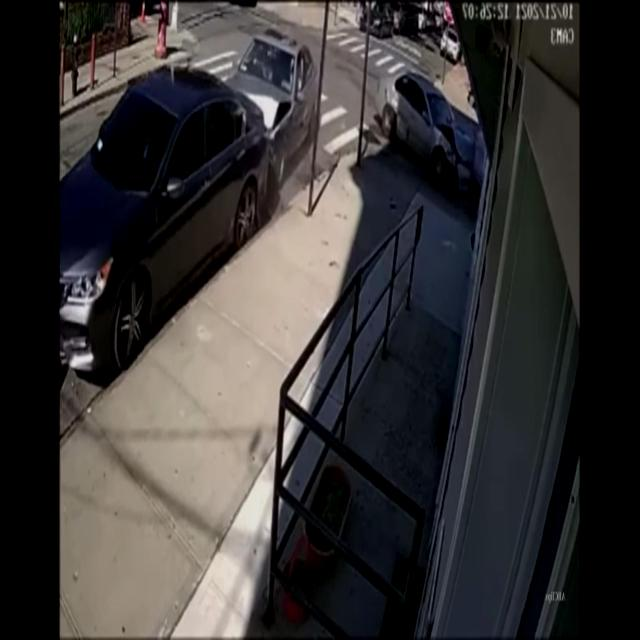accident: (58, 28, 320, 386), (377, 72, 483, 196)
